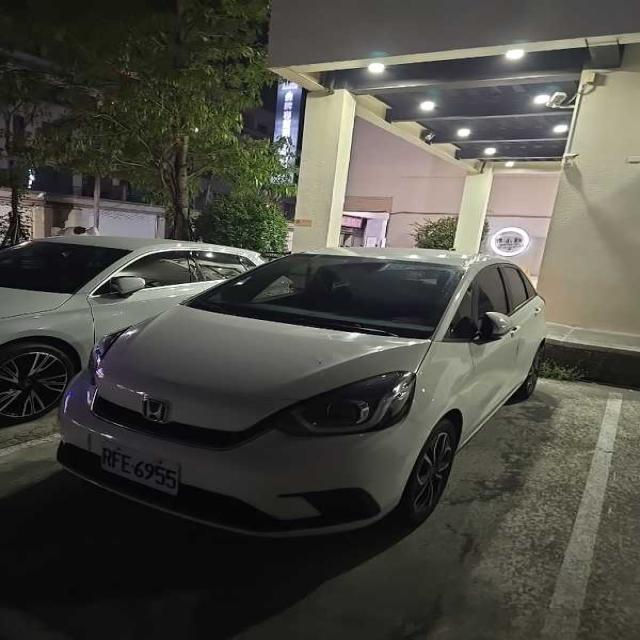license plate: (101, 438, 179, 494)
wheel: (391, 418, 457, 526)
